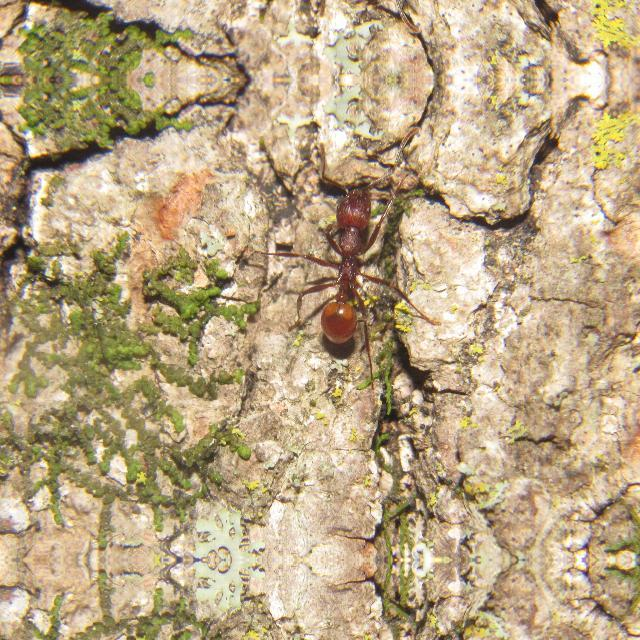Apheanogaster: (279, 168, 429, 360)
